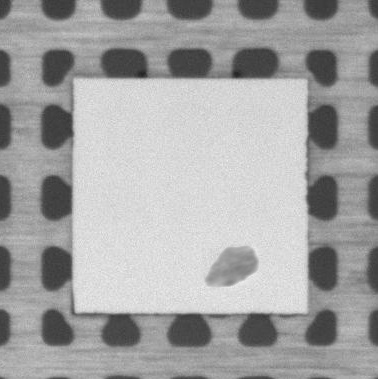DIE_INK: (206, 241, 263, 291)
